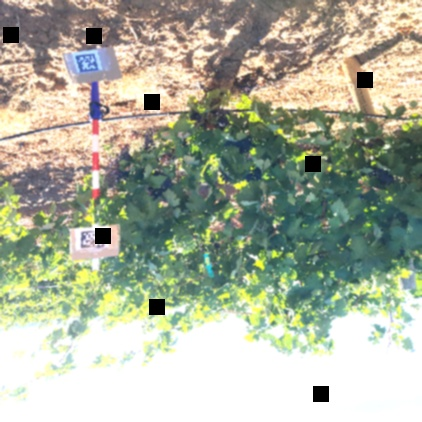QR: (79, 229, 107, 250), (75, 52, 99, 73)
